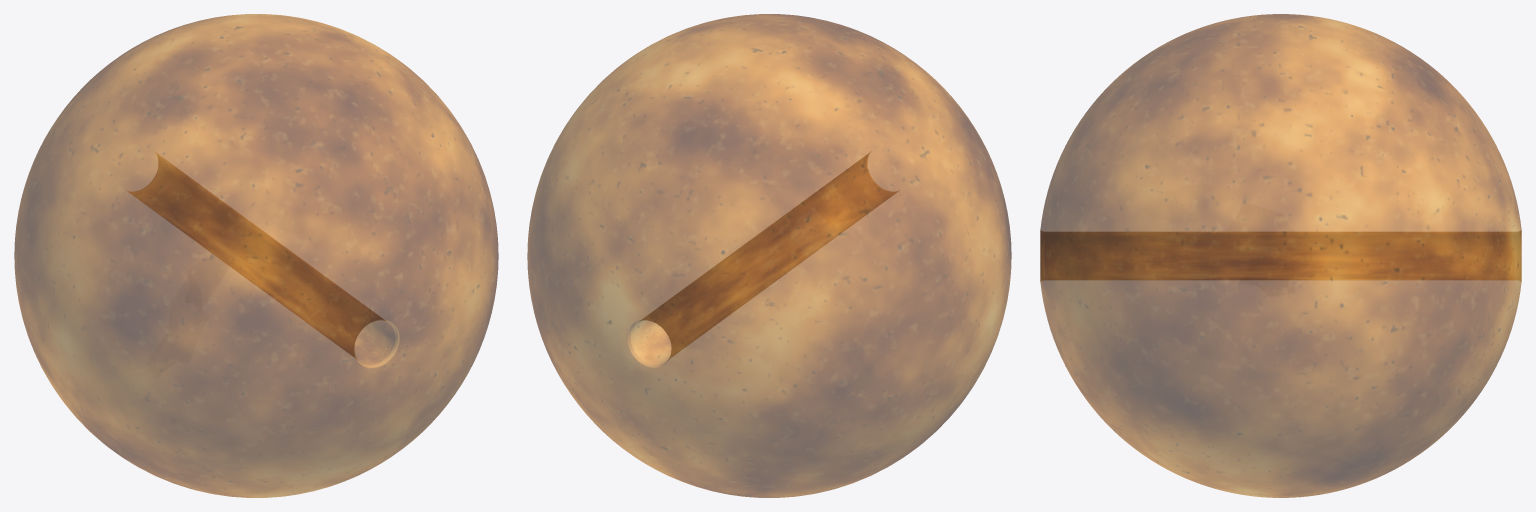
Rendered from baltic-amber-10mm.glb.
The picture shows the model from 3 angles, left to right: view 1: azimuth 30°, elevation 25°; view 2: azimuth 150°, elevation 25°; view 3: azimuth 270°, elevation 25°; orthographic projection.
Parts seen in each view (by area): view 1: baltic-amber.001; view 2: baltic-amber.001; view 3: baltic-amber.001.
Boxes of the visible parts, x1,y1,x2,y2 form: baltic-amber.001: [14, 14, 498, 497]; baltic-amber.001: [527, 14, 1011, 497]; baltic-amber.001: [1040, 14, 1521, 497].
Bounding box in the file's own units: 0.01 × 0.01 × 0.00994.
2 materials, 1 textured.
